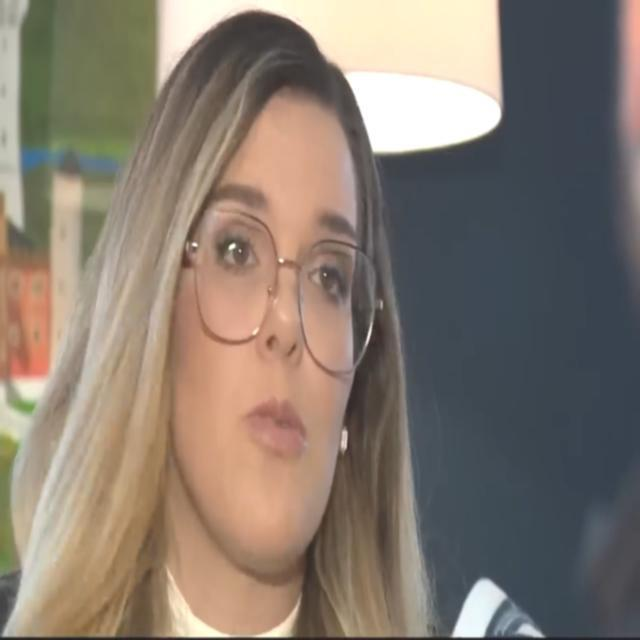non-fight: (138, 19, 427, 631)
